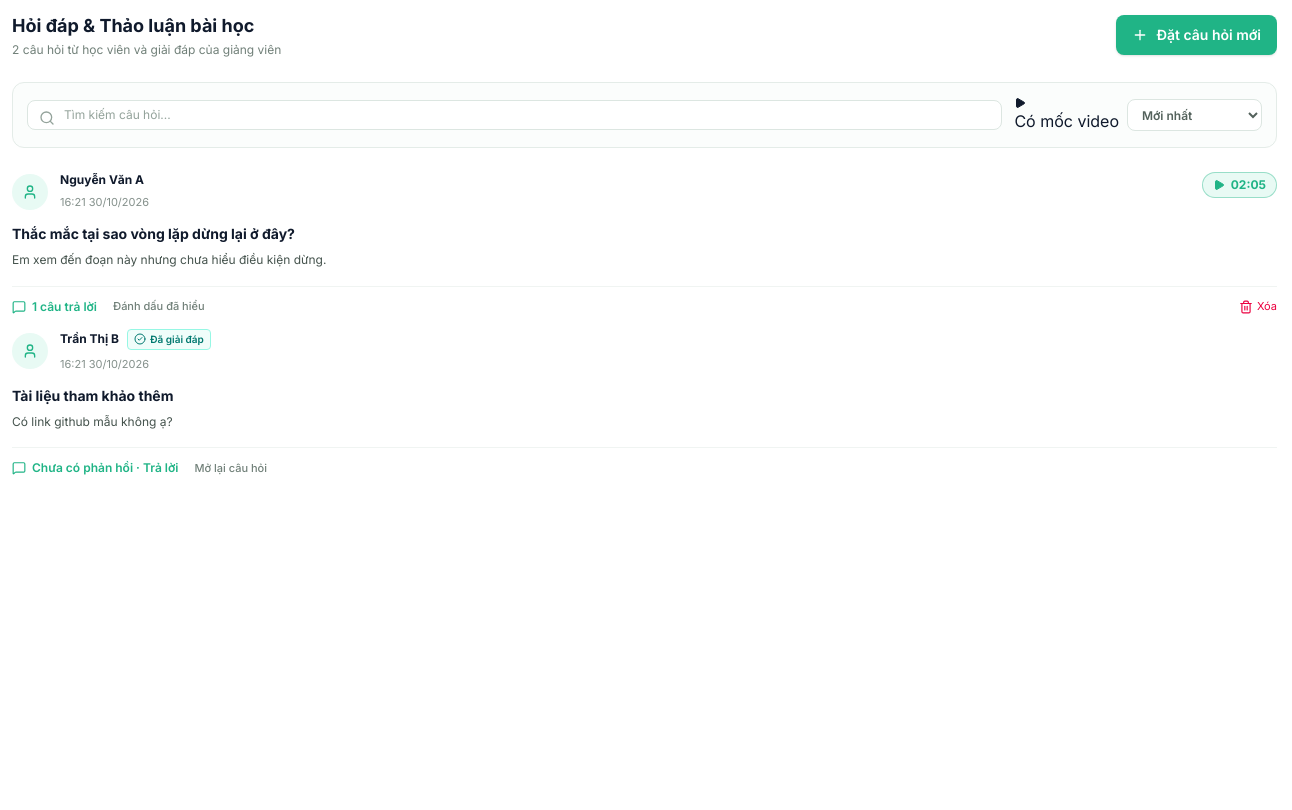
Test: LearningLessonDiscussions Component › allows submitting a new discussion question with video timestamp attached
Click the button "Đặt câu hỏi mới" at {"x": 1197, "y": 35}, box [1116,15,1277,55]
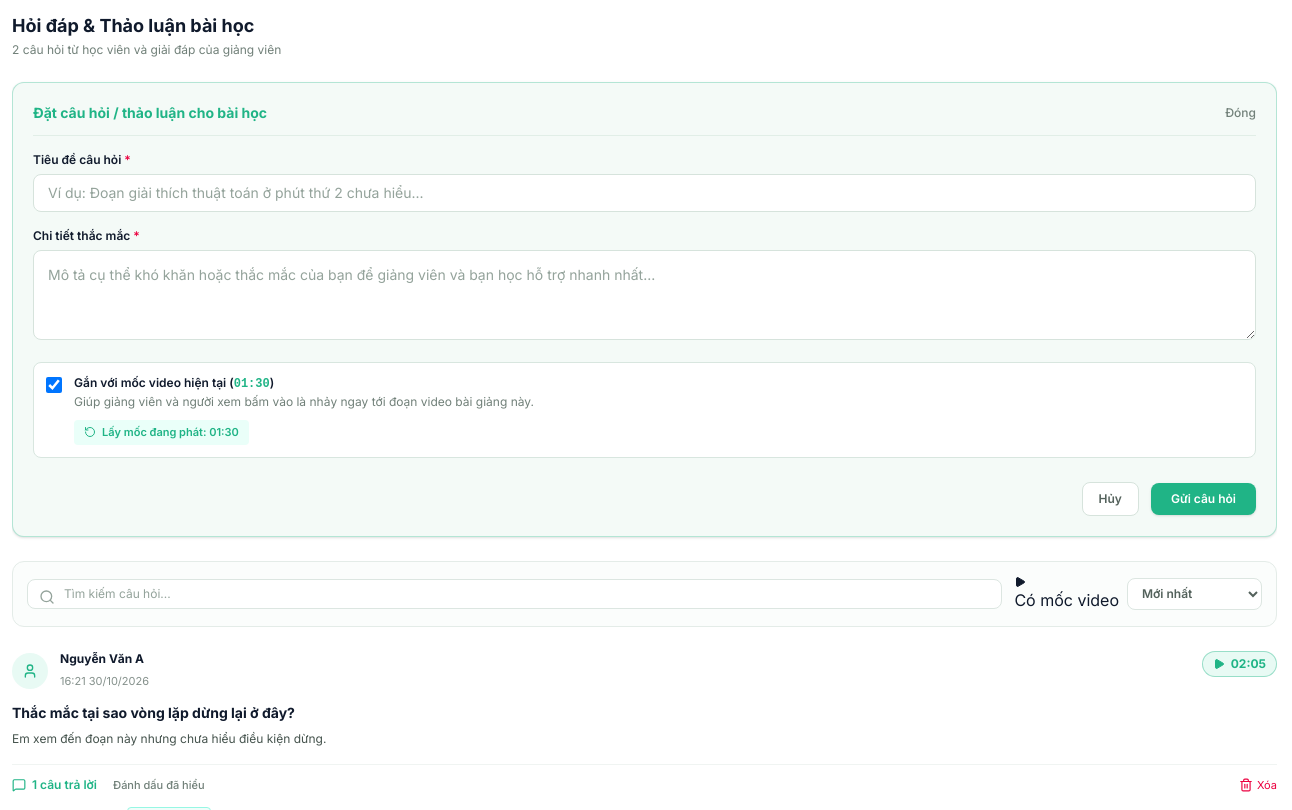
Type "Hỏi về cách debug đoạn này" into the field labelled "Tiêu đề câu hỏi *" at {"x": 644, "y": 193}, box [33,174,1256,212]
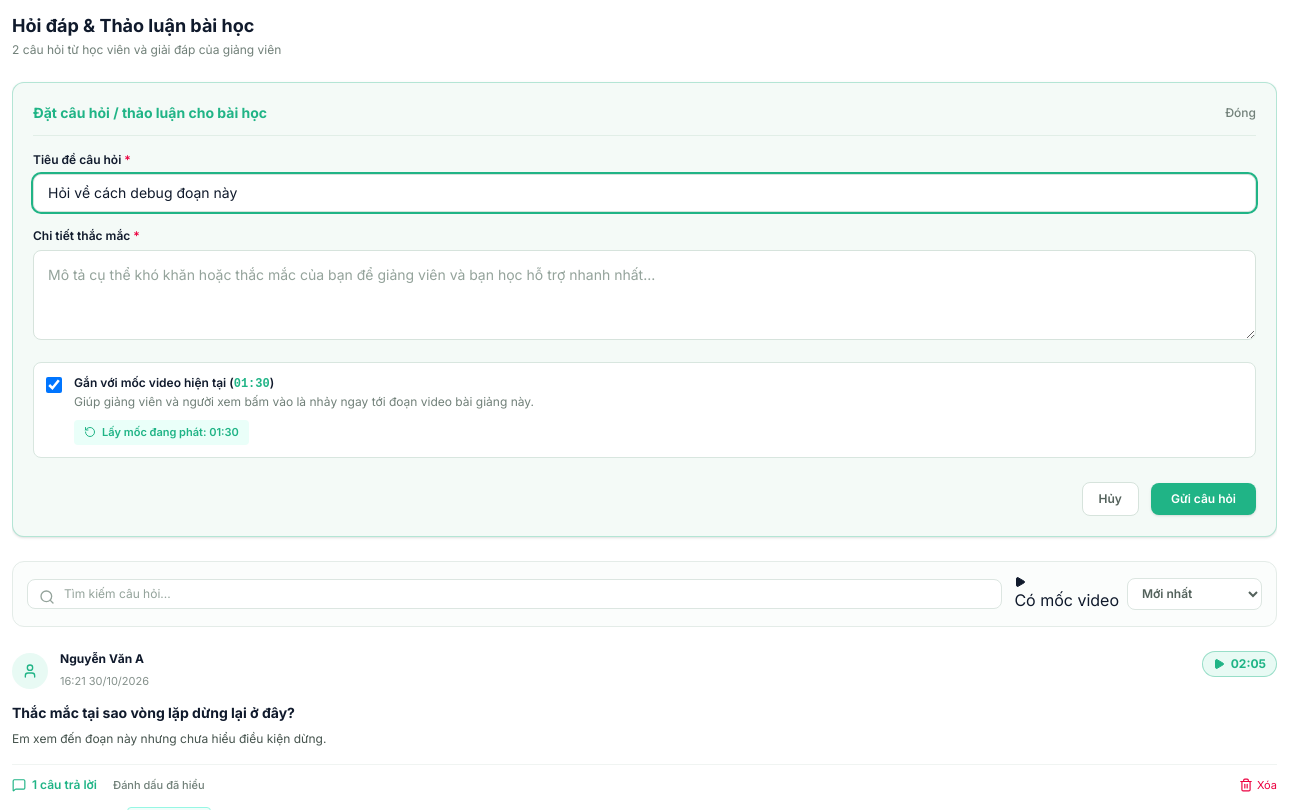
Type "Làm sao để đặt breakpoint ở đây ạ?" into the text box labelled "Chi tiết thắc mắc *" at {"x": 644, "y": 295}, box [33,250,1256,340]
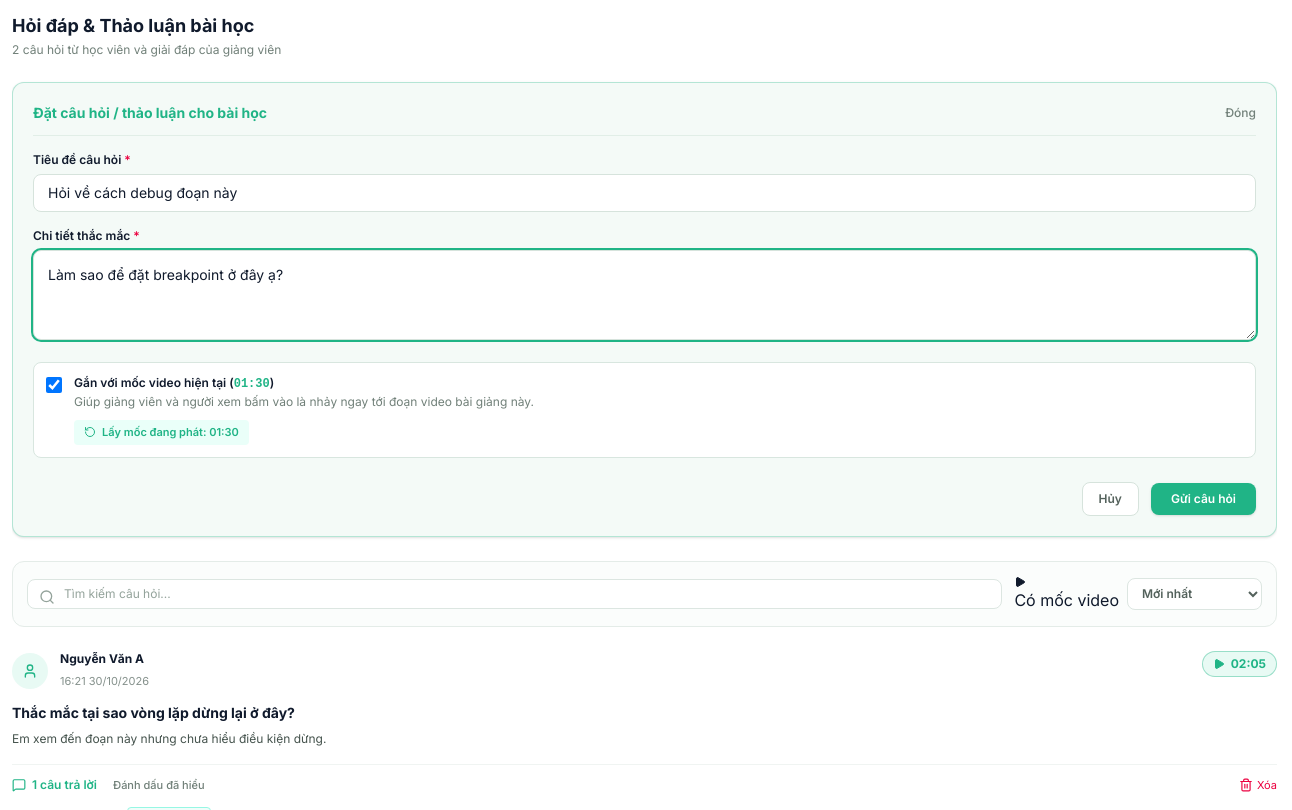
Click the button "Gửi câu hỏi" at {"x": 1203, "y": 498}, box [1151,482,1256,514]
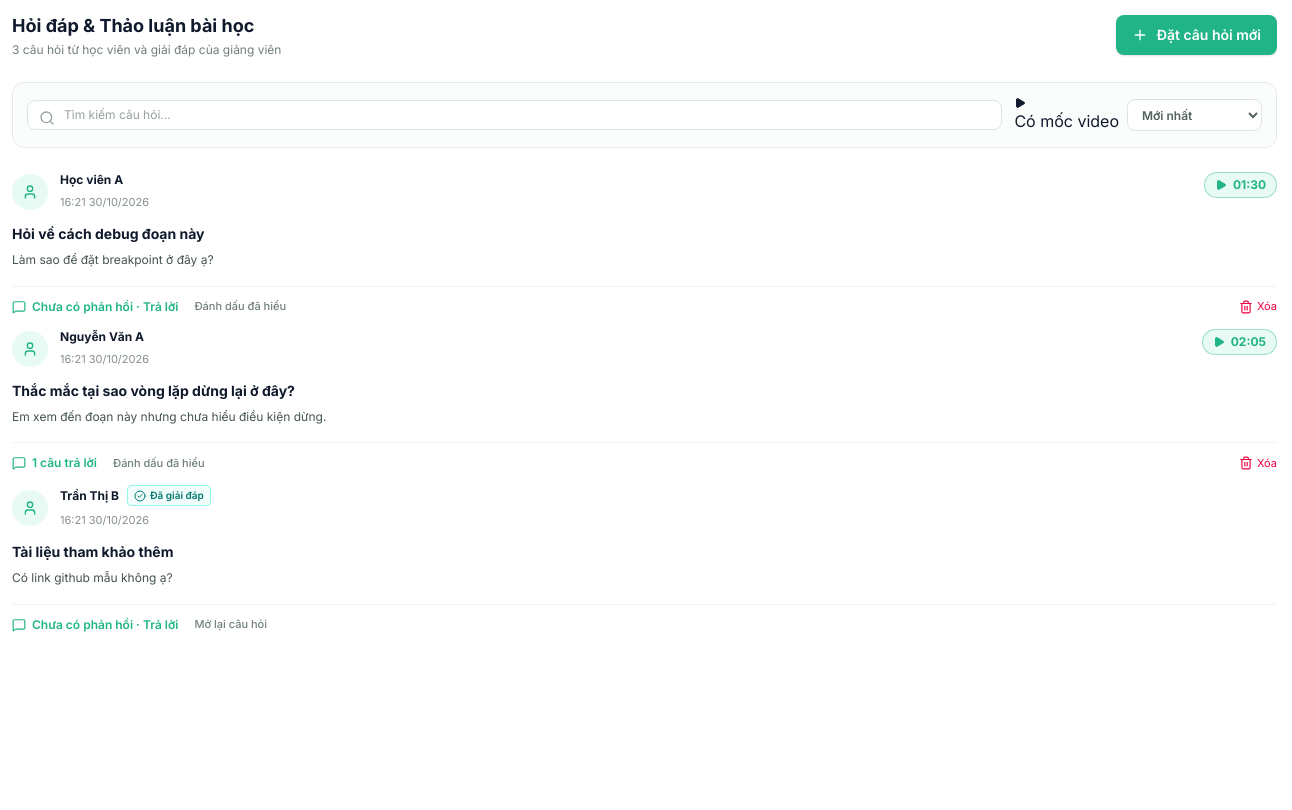
expect the heading "Hỏi về cách debug đoạn này" is shown: met, box [12,225,204,242]
